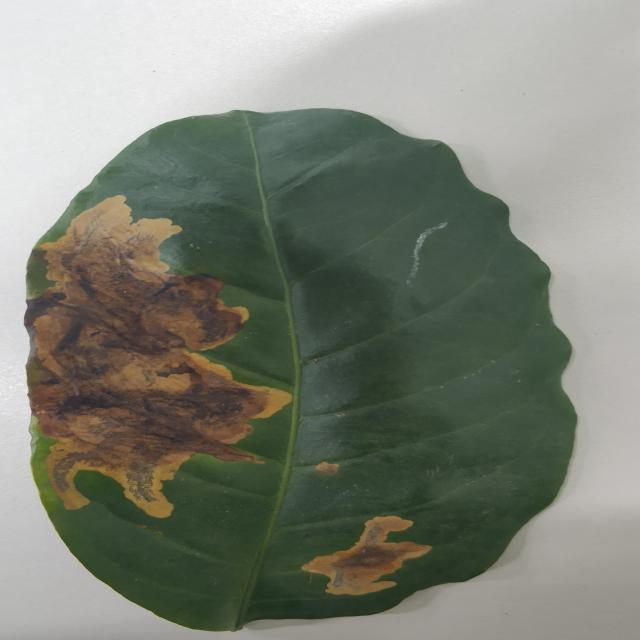Plaga-Minador: (23, 109, 580, 633)
